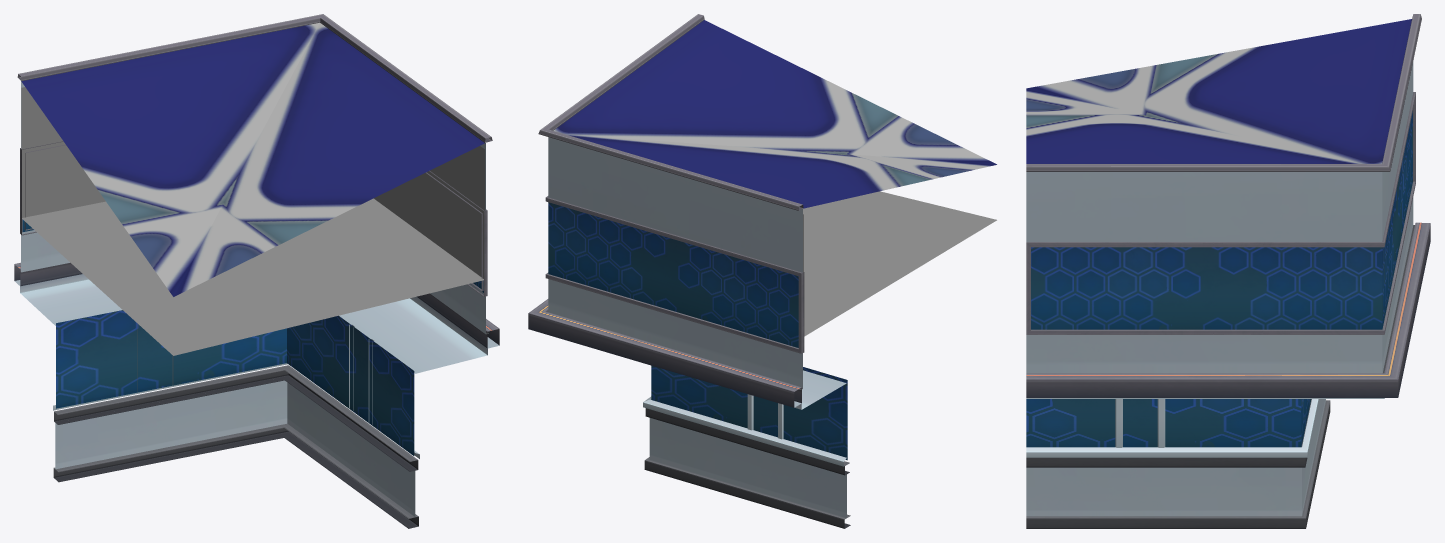
Rendered from mesh_1002_props04_1.FBX.
3 views of the same model, side by side, from view 1: azimuth 30°, elevation 25°; view 2: azimuth 150°, elevation 25°; view 3: azimuth 270°, elevation 25° (orthographic). The views are drawn at different scales.
Visible parts, largest first — view 1: mesh_1002_props4d_1, mesh_1002_props02f001_1, mesh_1002_props04a_1, mesh_1002_props04c_1, mesh_1002_props04b_1; view 2: mesh_1002_props4d_1, mesh_1002_props04a_1, mesh_1002_props04c_1, mesh_1002_props02f001_1, mesh_1002_props04b_1; view 3: mesh_1002_props04a_1, mesh_1002_props04c_1, mesh_1002_props4d_1, mesh_1002_props04b_1.
Part boxes in pixels (x1,y1,x2,y2): mesh_1002_props4d_1: (21,22,484,296); mesh_1002_props02f001_1: (21,87,484,355); mesh_1002_props04a_1: (14,81,499,516); mesh_1002_props04c_1: (17,14,492,455); mesh_1002_props04b_1: (14,262,499,528); mesh_1002_props4d_1: (553,20,996,208); mesh_1002_props04a_1: (548,137,846,517); mesh_1002_props04c_1: (538,14,847,460); mesh_1002_props02f001_1: (803,191,996,336); mesh_1002_props04b_1: (528,299,850,528); mesh_1002_props04a_1: (1026,61,1414,516); mesh_1002_props04c_1: (1026,14,1421,447); mesh_1002_props4d_1: (1026,19,1411,163); mesh_1002_props04b_1: (1026,222,1430,528).
Bounding box in the file's own units: 1498 × 1631 × 1493.
